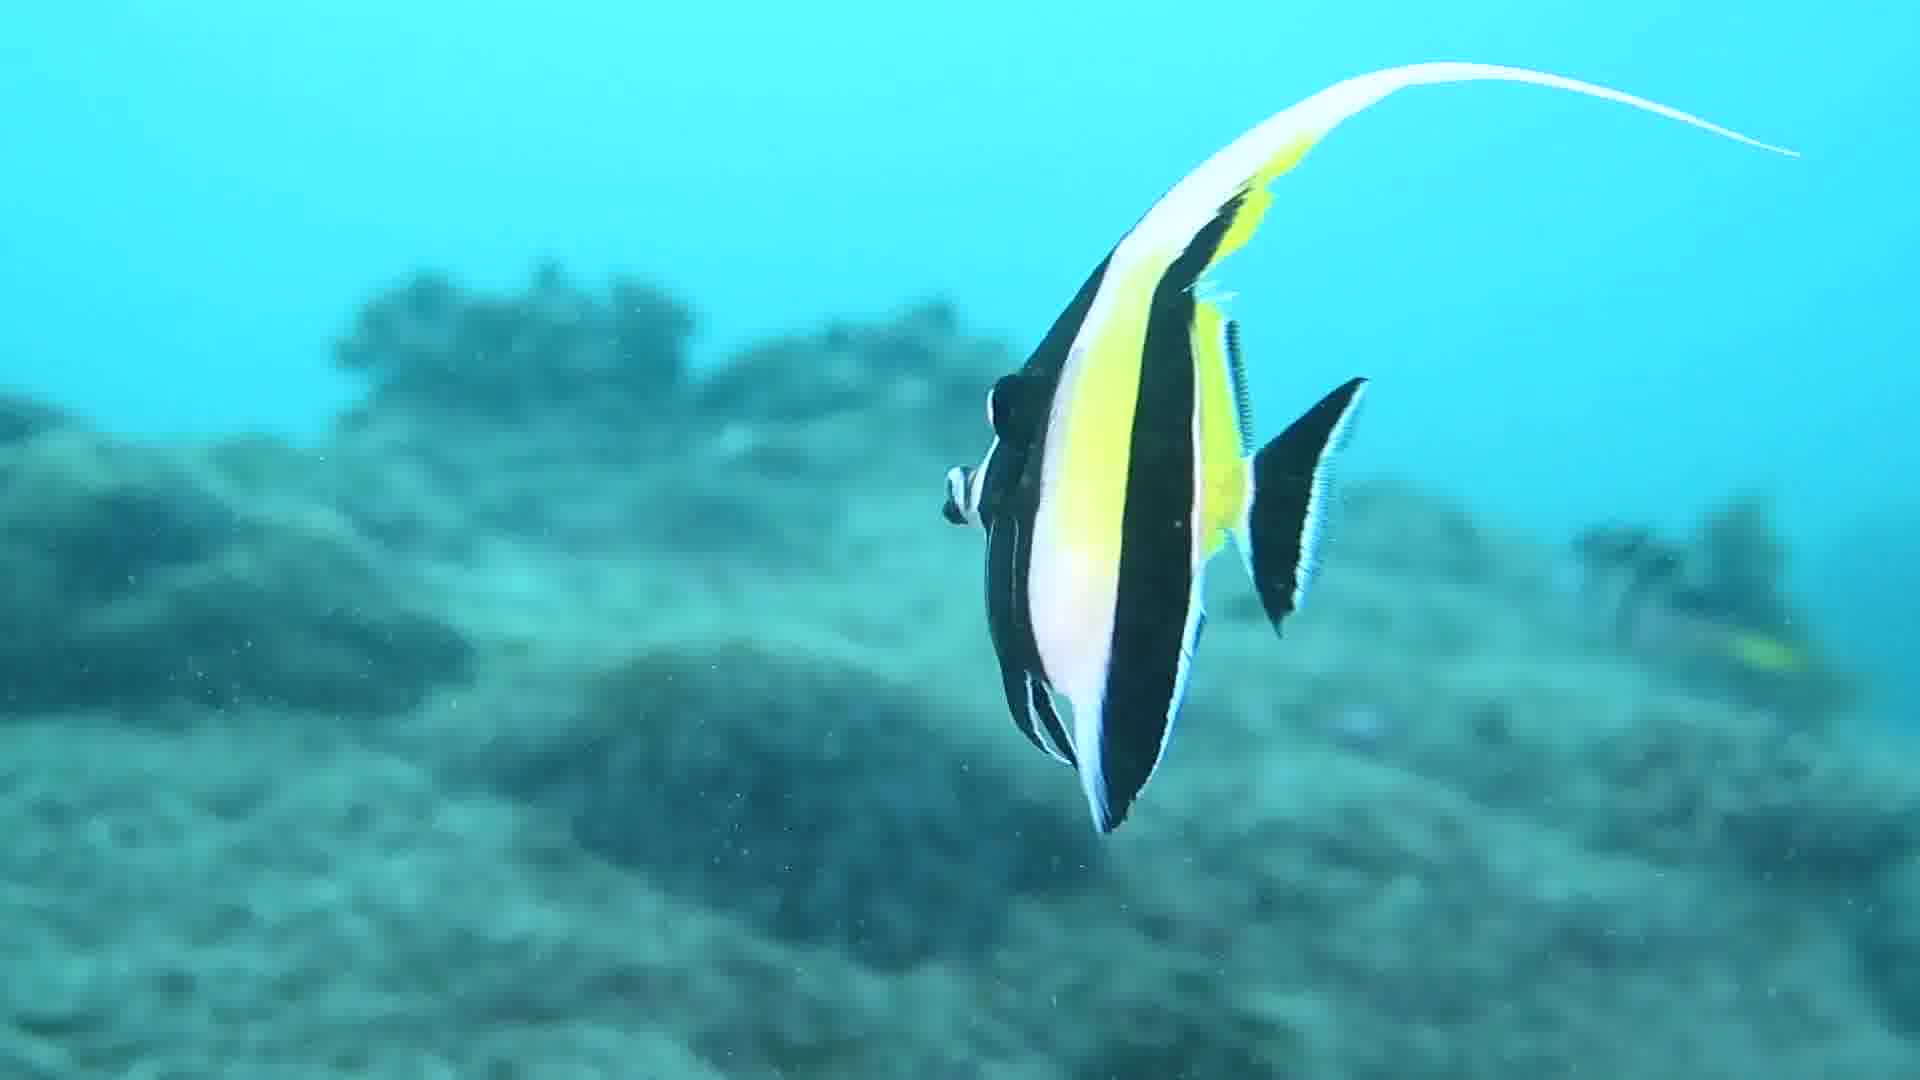Zanclus cornutus: (840, 42, 1509, 858)
